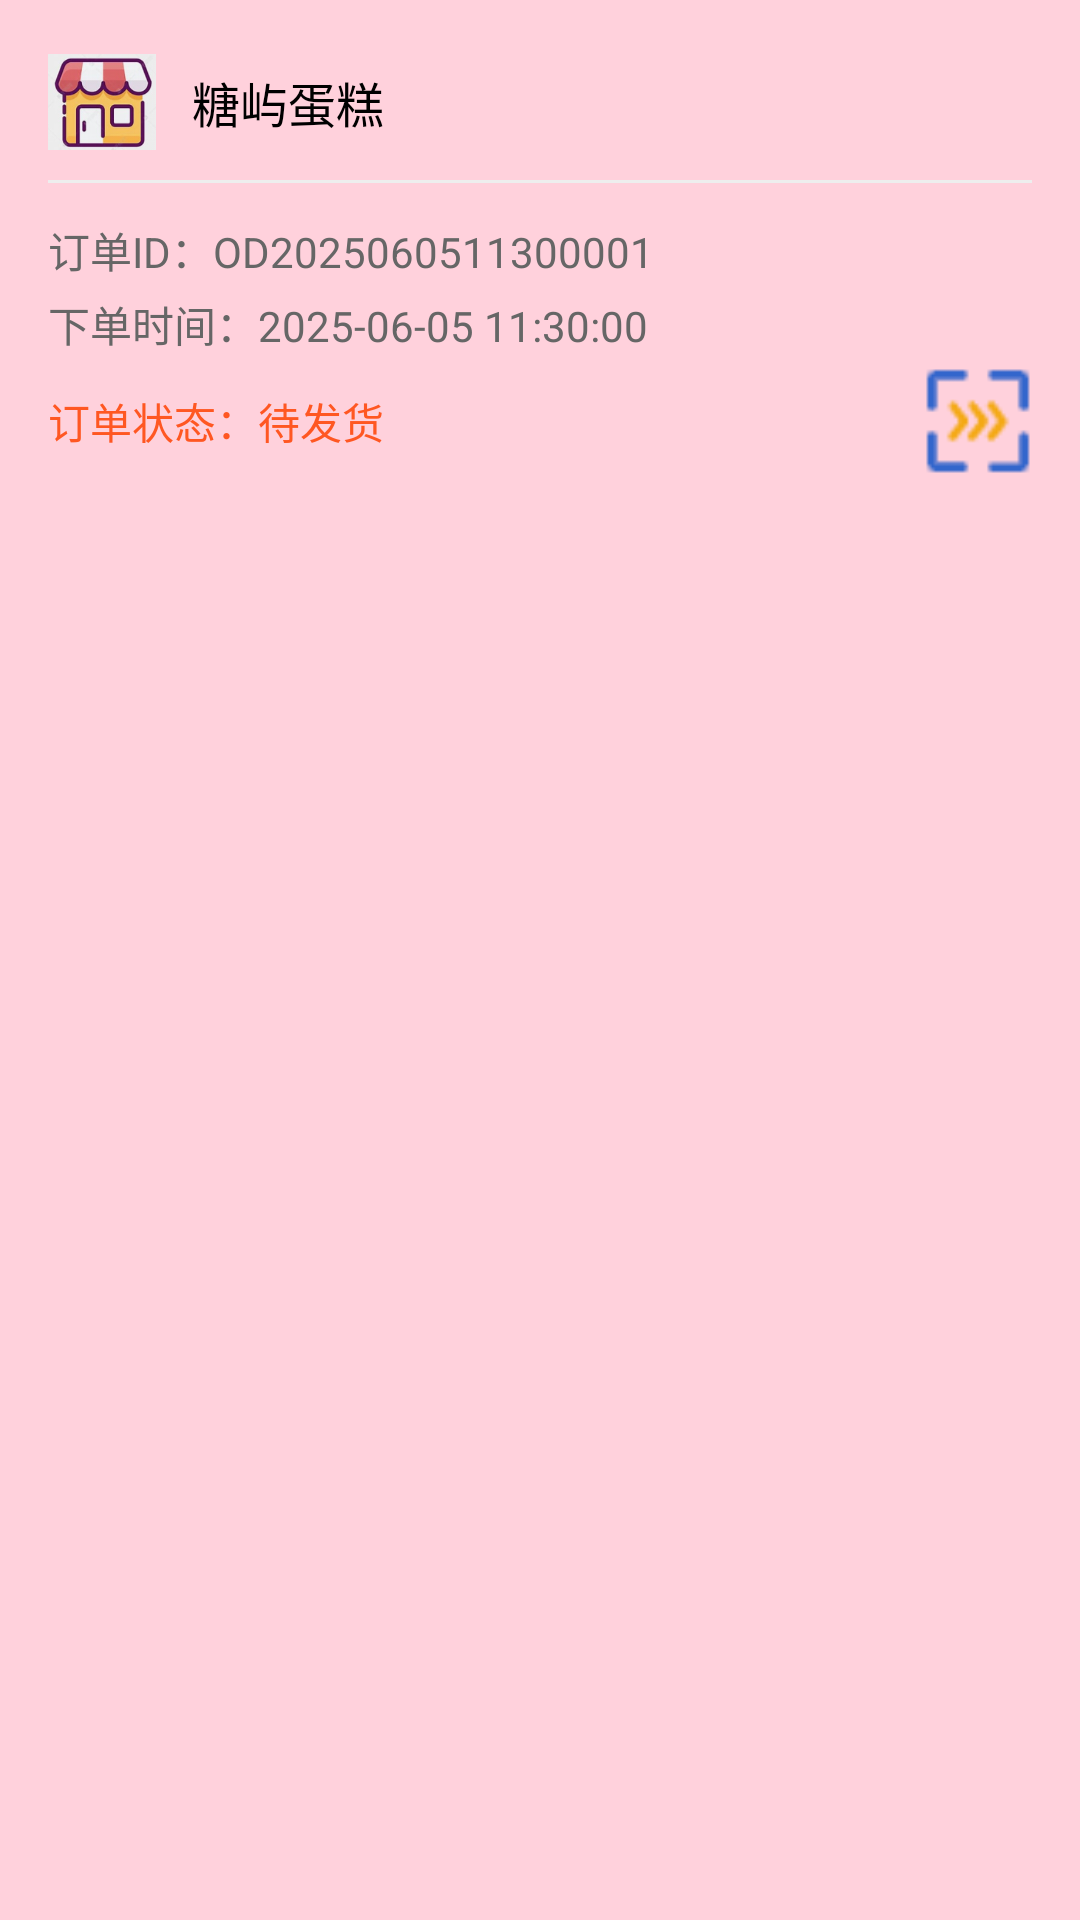

Screen size 1080 x 1920. Icon name, then its center in pixels as point (x, y):
商家图标: point (102, 102)
